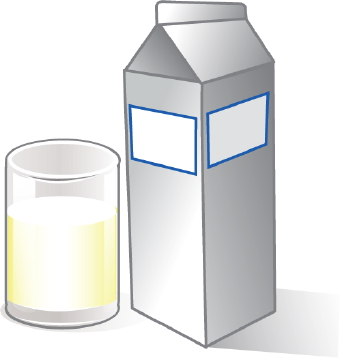glass of milk: (13, 160, 113, 311)
